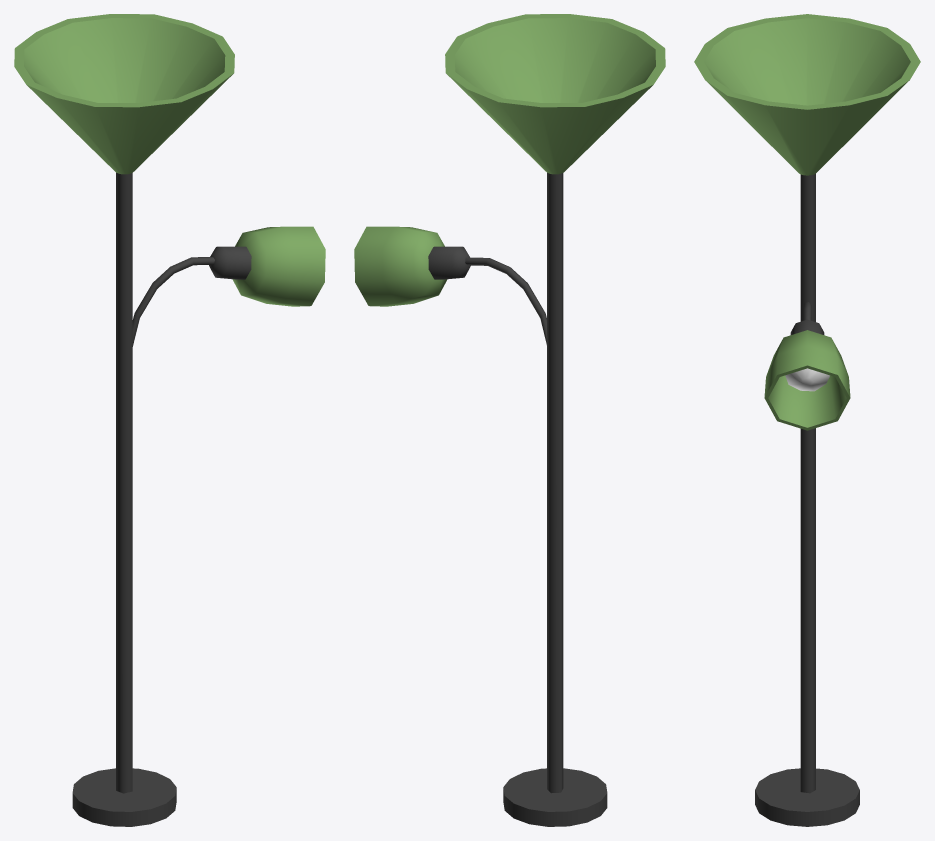
File: Lamp_01_Standing.fbx
3 views of the same model, side by side, from view 1: azimuth 30°, elevation 25°; view 2: azimuth 150°, elevation 25°; view 3: azimuth 270°, elevation 25° (orthographic).
Visible parts, largest first — view 1: Lamp_01_Standing; view 2: Lamp_01_Standing; view 3: Lamp_01_Standing.
Part boxes in pixels (x1=…): Lamp_01_Standing: x1=14, y1=14, x2=325, y2=826; Lamp_01_Standing: x1=354, y1=14, x2=665, y2=826; Lamp_01_Standing: x1=694, y1=14, x2=920, y2=826.
Bounding box in the file's own units: 0.6725 × 1.67 × 0.4608.
